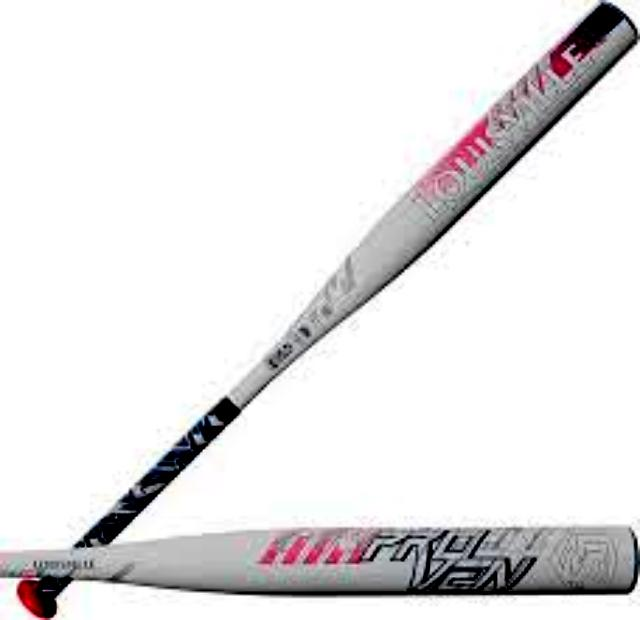baseball bat: (0, 1, 638, 618)
